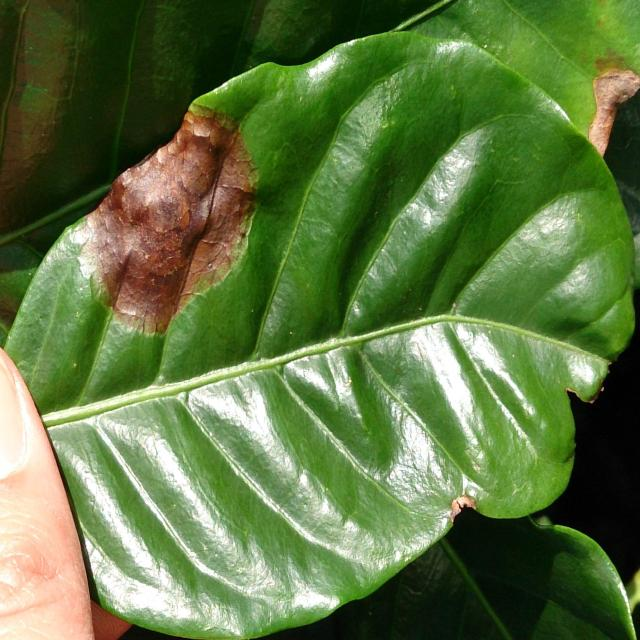Enfermedad-Mancha-de-hierro: (8, 16, 640, 640)
